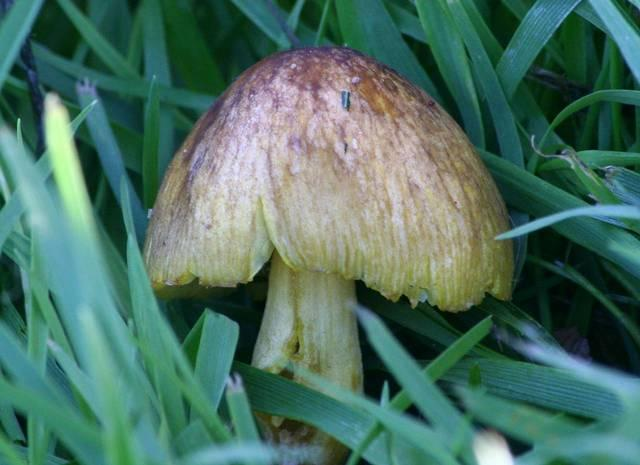Edible Mushroom: (141, 43, 516, 464)
